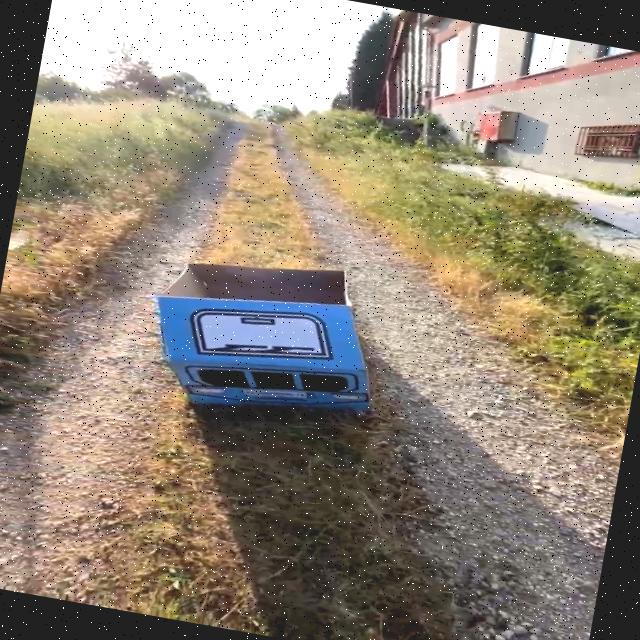blue_car: (90, 207, 423, 482)
